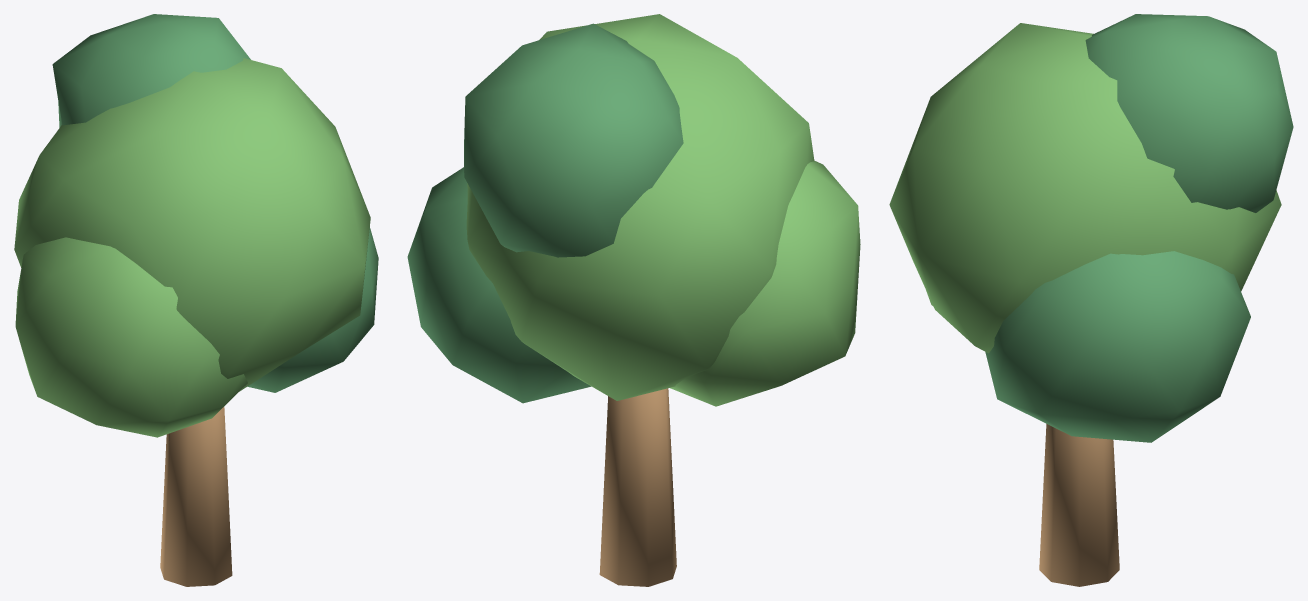
The model's file is tree.glb.
3 renders of one model, left to right at view 1: azimuth 30°, elevation 25°; view 2: azimuth 150°, elevation 25°; view 3: azimuth 270°, elevation 25°, orthographic. The views are drawn at different scales.
Size of the model in its own units: 1.45 by 1.98 by 1.3.
